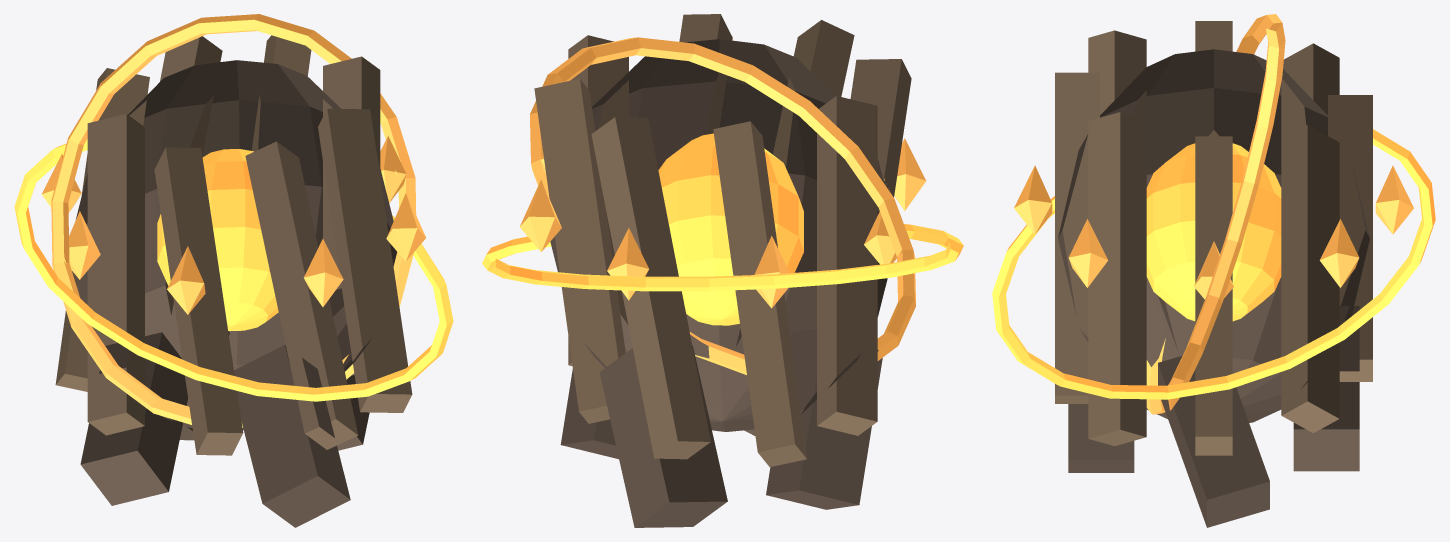
The model's file is titan_heart.gltf.
3 views of the same model, side by side, from view 1: azimuth 30°, elevation 25°; view 2: azimuth 150°, elevation 25°; view 3: azimuth 270°, elevation 25° (orthographic). The views are drawn at different scales.
Visible parts, largest first — view 1: TitanHeart_root; view 2: TitanHeart_root; view 3: TitanHeart_root.
Boxes of the visible parts, <box> form: TitanHeart_root: <box>14,14,453,527</box>; TitanHeart_root: <box>482,14,963,527</box>; TitanHeart_root: <box>992,14,1435,527</box>.
Bounding box in the file's own units: 3.41 × 3.61 × 3.35.
